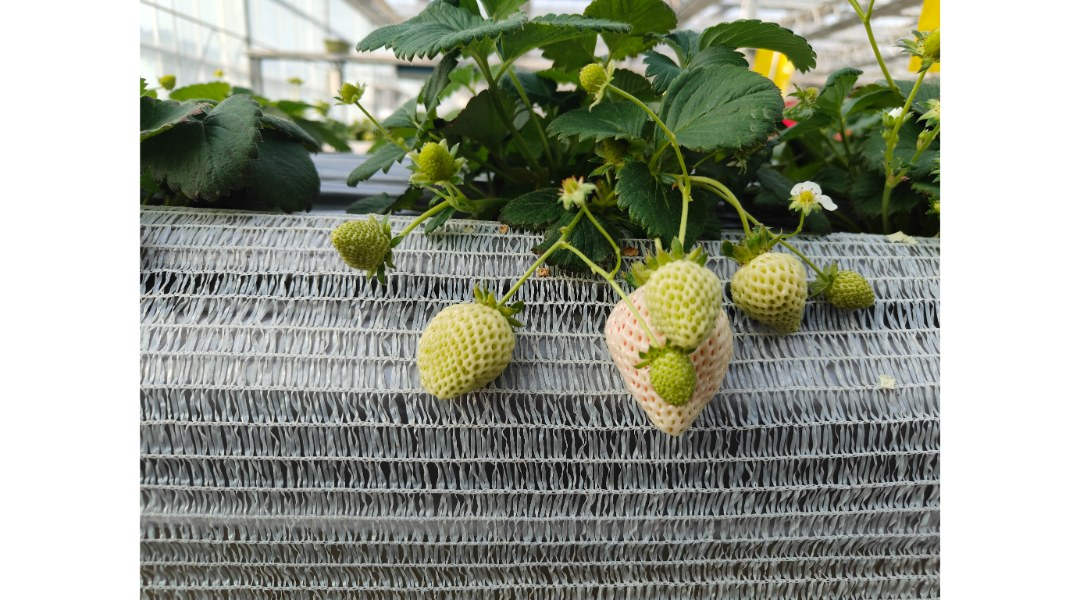berry: (603, 268, 736, 440), (405, 283, 518, 406), (628, 230, 721, 351), (728, 239, 815, 333), (321, 205, 391, 280), (398, 124, 474, 190), (810, 261, 879, 319), (643, 336, 696, 407), (545, 169, 597, 212), (572, 59, 617, 107)
flower: (777, 175, 846, 221)
strain: (627, 89, 693, 163), (502, 242, 559, 305), (703, 169, 751, 235), (401, 204, 440, 238), (671, 191, 692, 252)
